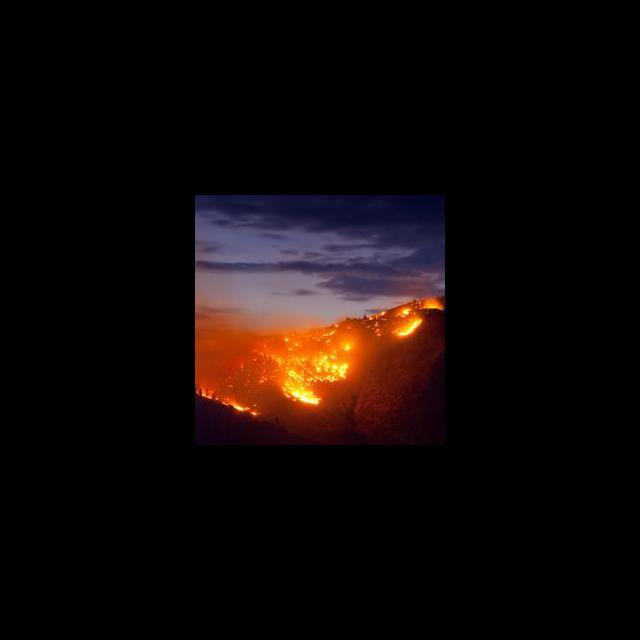Fire: (260, 340, 354, 404), (196, 387, 259, 421), (393, 318, 423, 338), (314, 322, 342, 340), (370, 310, 386, 339), (396, 304, 414, 316), (424, 301, 444, 310)
